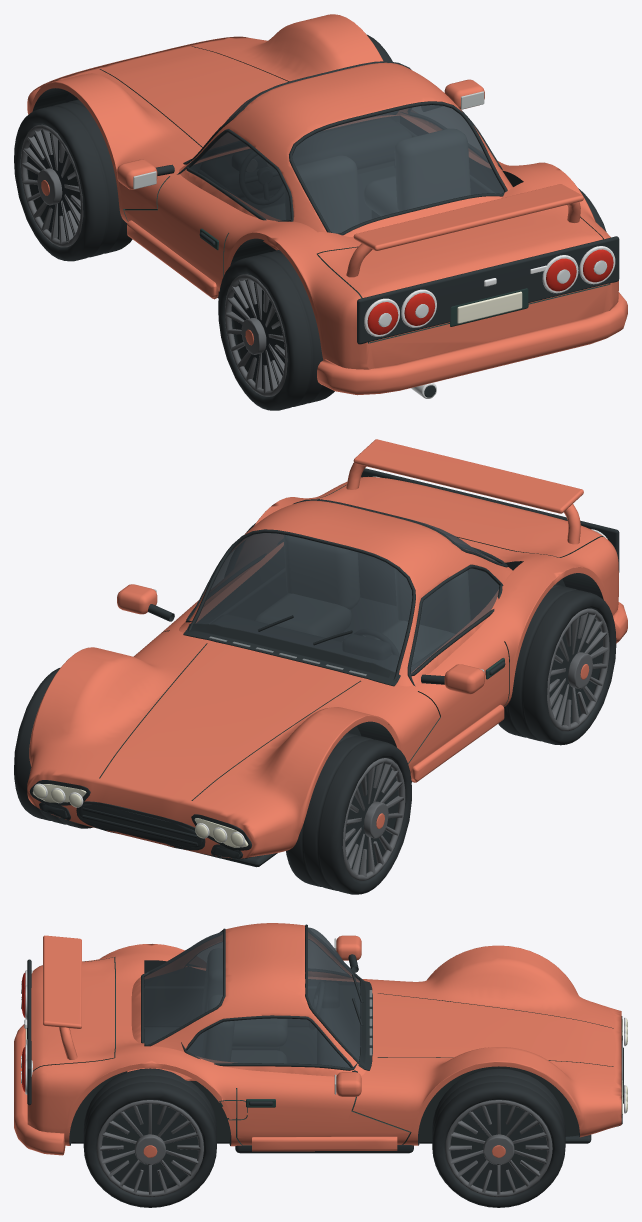
File: hoshi_lod1.fbx
3 views of the same model, one above another, from view 1: azimuth 30°, elevation 25°; view 2: azimuth 150°, elevation 25°; view 3: azimuth 270°, elevation 25° (orthographic). The views are drawn at different scales.
Visible parts, largest first — view 1: Body, Wheel_FL_Mesh, Wheel_RL_Mesh; view 2: Body, Wheel_FL_Mesh, Wheel_RL_Mesh, Wheel_FR_Mesh; view 3: Body, Wheel_FR_Mesh, Wheel_RR_Mesh.
Part boxes in pixels (x1,y1,x2,y2): Body: (27,14,627,398); Wheel_FL_Mesh: (14,99,132,261); Wheel_RL_Mesh: (218,250,334,410); Body: (27,439,627,867); Wheel_FL_Mesh: (286,733,411,894); Wheel_RL_Mesh: (498,584,616,745); Wheel_FR_Mesh: (14,667,92,828); Body: (14,923,627,1155); Wheel_FR_Mesh: (432,1068,565,1207); Wheel_RR_Mesh: (83,1068,216,1207).
Bounding box in the file's own units: 233 × 143 × 405.
